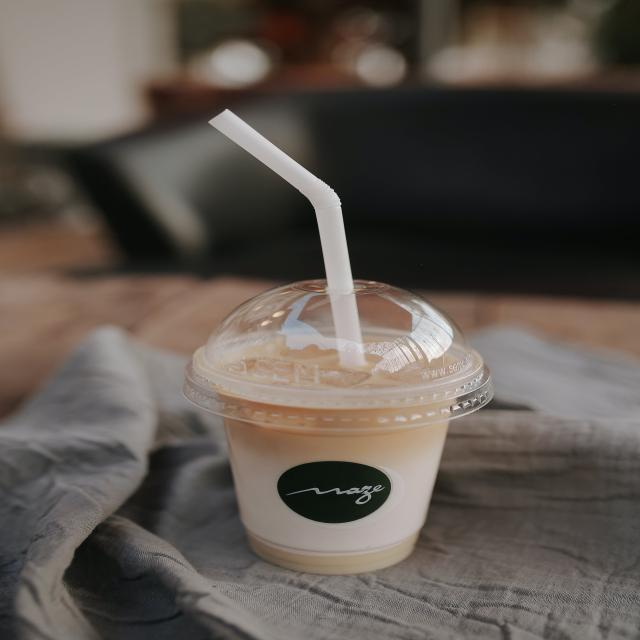cup: (186, 277, 503, 576)
